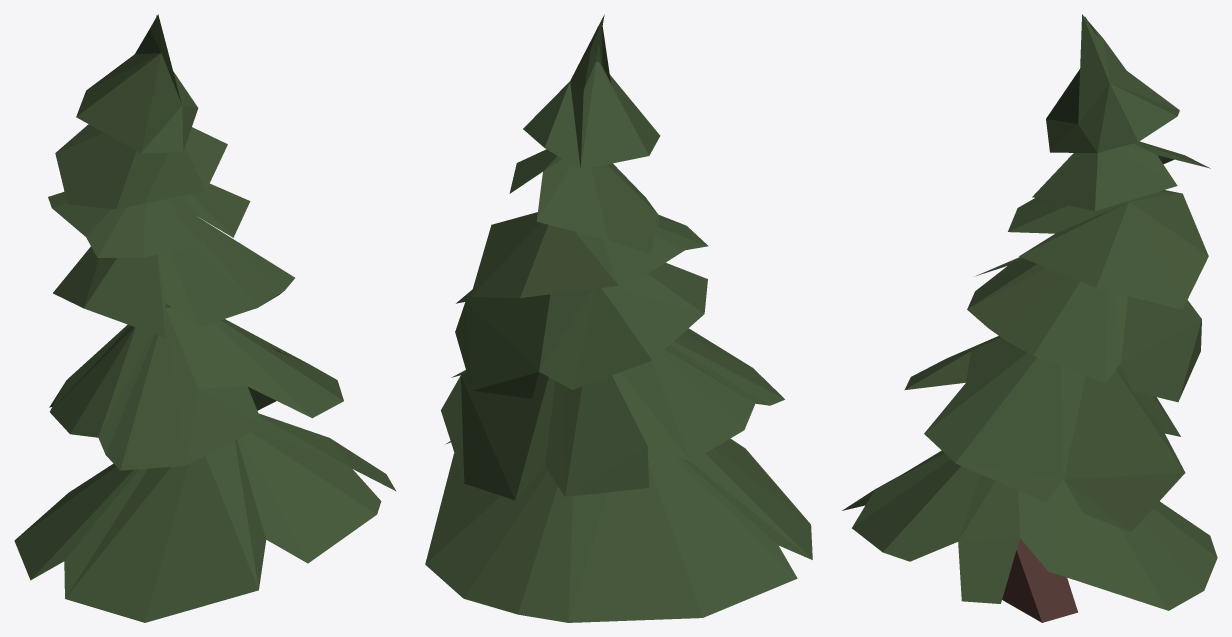
The model's file is PineTree_3_lod.glb.
The picture shows the model from 3 angles, left to right: view 1: azimuth 30°, elevation 25°; view 2: azimuth 150°, elevation 25°; view 3: azimuth 270°, elevation 25°; orthographic projection. The views are drawn at different scales.
Visible parts, largest first — view 1: PineTree_3; view 2: PineTree_3; view 3: PineTree_3.
Part boxes in pixels (x1=…): PineTree_3: x1=14, y1=14, x2=396, y2=622; PineTree_3: x1=425, y1=14, x2=812, y2=622; PineTree_3: x1=842, y1=14, x2=1217, y2=622.
Size of the model in its own units: 2.12 by 3.3 by 1.94.
